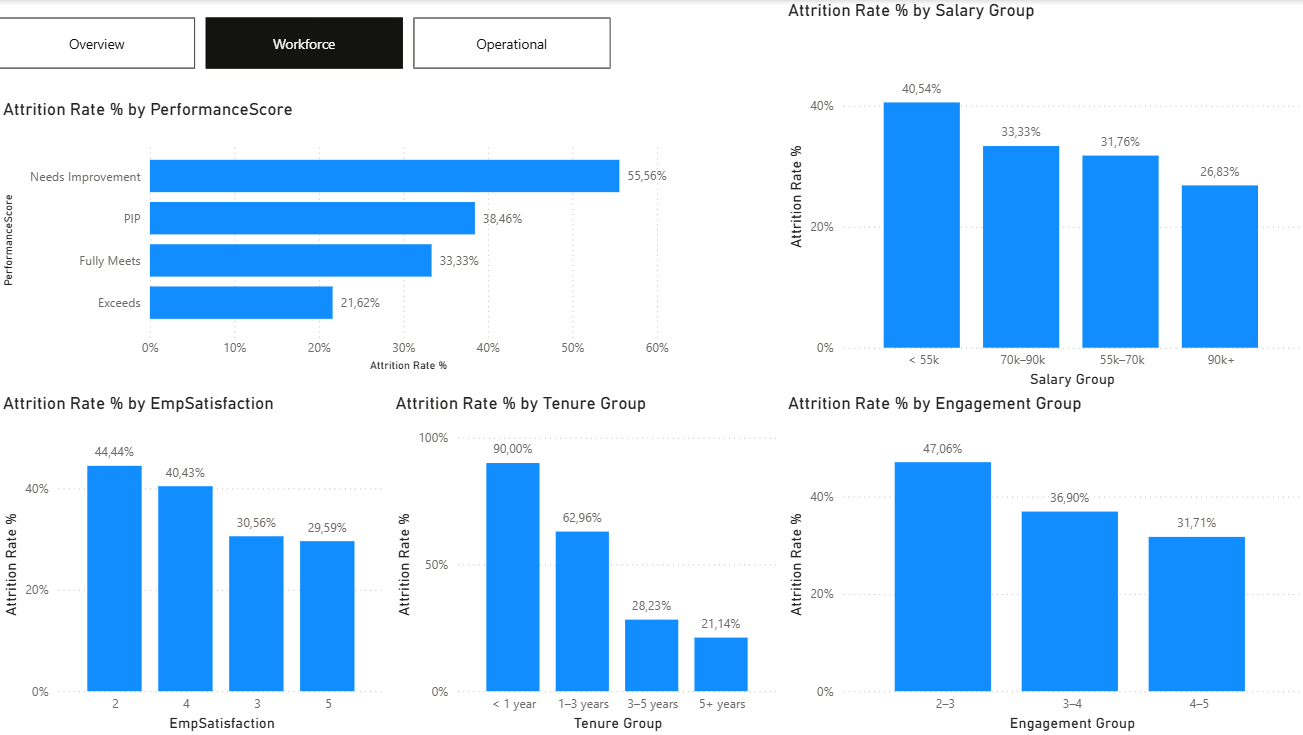

The dashboard page shown, as its layout file describes it:
{"tool":"powerbi","page":{"name":"Workforce","canvas":[1280,720],"ordinal":1},"visuals":[{"type":"clusteredColumnChart","fields":{"Category":["HRDataset_v14.Engagement Group"],"Y":["_Measures.Attrition Rate %"]},"box":[768,384,512,336],"z":0},{"type":"clusteredBarChart","fields":{"Y":["_Measures.Attrition Rate %"],"Category":["HRDataset_v14.PerformanceScore"]},"box":[0,96,672,272],"z":1000},{"type":"clusteredColumnChart","fields":{"Category":["HRDataset_v14.EmpSatisfaction"],"Y":["_Measures.Attrition Rate %"]},"box":[0,384,384,336],"z":2000},{"type":"clusteredColumnChart","fields":{"Category":["HRDataset_v14.Tenure Group"],"Y":["_Measures.Attrition Rate %"]},"box":[384,384,384,336],"z":3000},{"type":"clusteredColumnChart","fields":{"Category":["HRDataset_v14.Salary Group"],"Y":["_Measures.Attrition Rate %"]},"box":[768,0,512,384],"z":4000},{"type":"pageNavigator","box":[0,0,600,50],"z":5000}]}

Visuals, with their boxes in screenshot pixels (x1, y1, x2, y2), scaled from the page's 1280x720 canvas onto the 1303x735 screenshot:
clusteredColumnChart - HRDataset_v14.Engagement Group x _Measures.Attrition Rate %: l=782, t=392, r=1302, b=734
clusteredBarChart - _Measures.Attrition Rate % x HRDataset_v14.PerformanceScore: l=0, t=98, r=684, b=376
clusteredColumnChart - HRDataset_v14.EmpSatisfaction x _Measures.Attrition Rate %: l=0, t=392, r=391, b=734
clusteredColumnChart - HRDataset_v14.Tenure Group x _Measures.Attrition Rate %: l=391, t=392, r=782, b=734
clusteredColumnChart - HRDataset_v14.Salary Group x _Measures.Attrition Rate %: l=782, t=0, r=1302, b=392
pageNavigator: l=0, t=0, r=611, b=51
